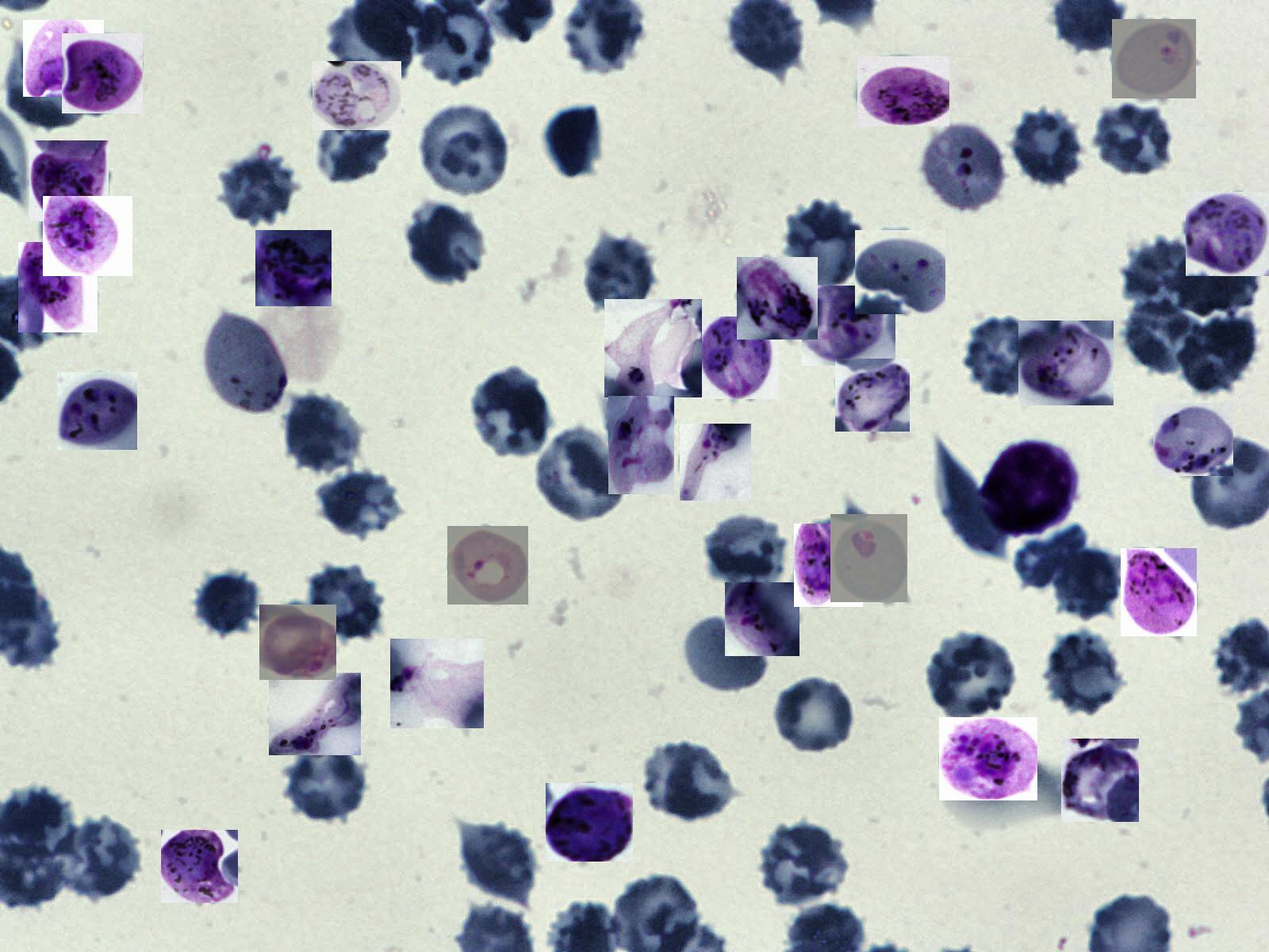Infected: (979, 436, 1080, 540), (604, 299, 702, 397), (202, 313, 288, 419), (918, 119, 1008, 215), (390, 639, 484, 728), (939, 717, 1037, 800), (1018, 321, 1114, 405), (855, 230, 945, 314), (269, 673, 361, 755), (802, 286, 895, 366), (18, 242, 98, 332), (43, 196, 132, 276), (1186, 192, 1269, 276), (546, 783, 633, 862), (830, 514, 907, 602), (737, 257, 818, 340), (1121, 548, 1197, 636), (1112, 19, 1196, 98), (699, 317, 779, 399), (62, 33, 143, 113), (29, 140, 109, 221), (1061, 739, 1139, 822), (608, 396, 674, 494), (857, 56, 949, 126), (447, 526, 528, 605), (57, 372, 137, 450), (23, 20, 104, 97), (312, 61, 401, 130), (255, 231, 332, 307), (1153, 403, 1233, 476), (259, 605, 336, 680), (794, 524, 863, 607), (161, 830, 238, 903), (725, 582, 799, 656), (835, 359, 910, 432), (680, 424, 751, 501)
Uninfected: (417, 103, 511, 194), (534, 432, 627, 523), (937, 439, 1003, 565), (926, 631, 1020, 719), (467, 367, 554, 459), (759, 820, 851, 905), (6, 36, 86, 131), (785, 202, 868, 292), (56, 816, 143, 898), (771, 673, 857, 755), (648, 742, 735, 823), (282, 742, 370, 822), (1045, 630, 1126, 716), (1118, 239, 1206, 317), (1180, 311, 1259, 397), (310, 464, 402, 537), (458, 819, 535, 906), (407, 201, 486, 285), (216, 146, 299, 225), (704, 512, 788, 590), (582, 234, 659, 318), (684, 615, 772, 688), (281, 392, 362, 471), (1121, 297, 1204, 374), (307, 562, 384, 642), (965, 318, 1045, 394), (1095, 102, 1177, 176), (315, 104, 390, 182), (1008, 109, 1083, 186), (540, 102, 610, 181), (1172, 255, 1260, 315), (192, 566, 262, 638), (1052, 548, 1121, 620)
